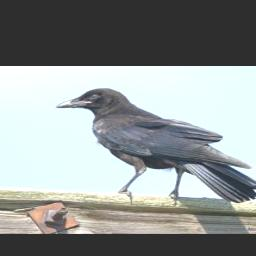Crow: (55, 88, 256, 203)
